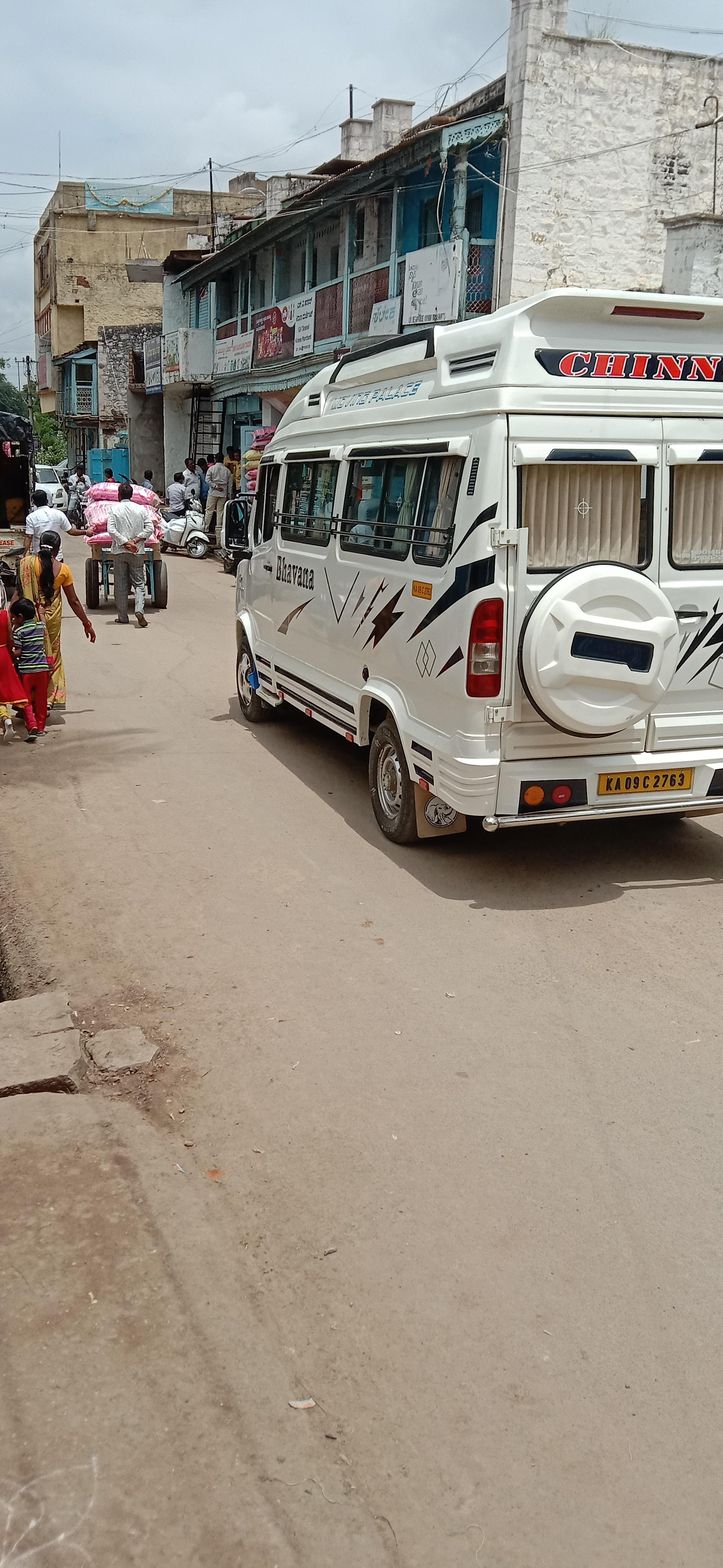number_platenumber_plate_textrotation: (596, 767, 694, 795)
